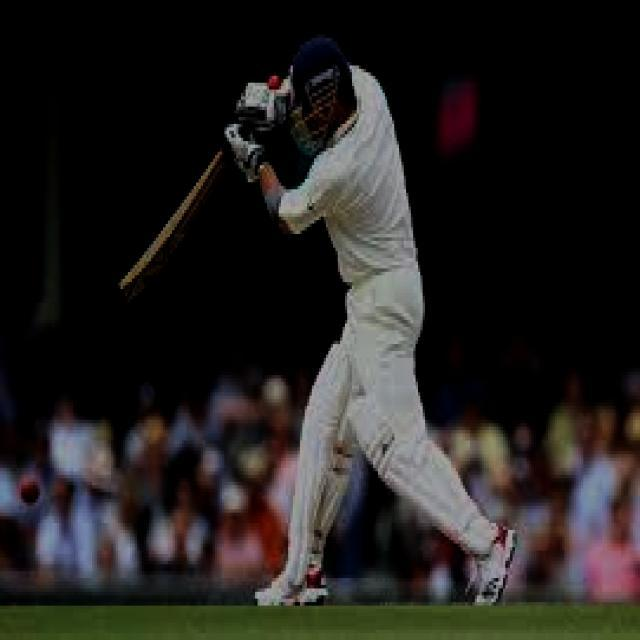bat: (112, 143, 231, 297)
toe: (109, 280, 137, 294)
